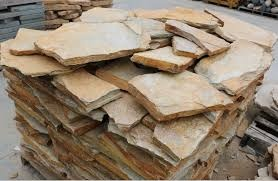obstacle: (0, 1, 272, 179)
